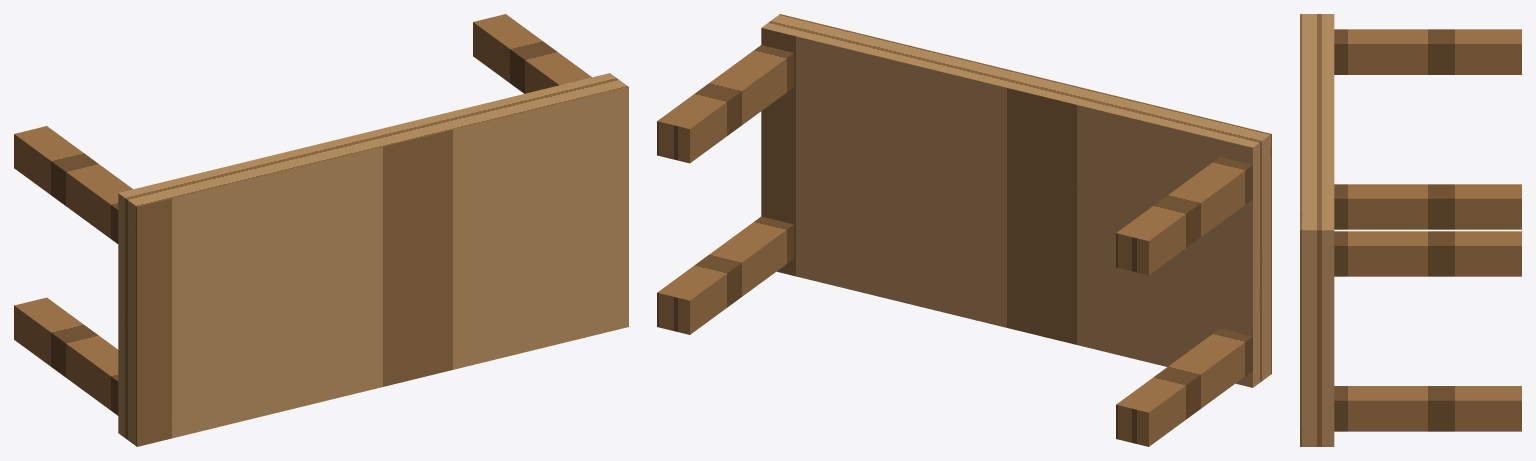
File: table.glb
3 renders of one model, left to right at view 1: azimuth 30°, elevation 25°; view 2: azimuth 150°, elevation 25°; view 3: azimuth 270°, elevation 25°, orthographic. The views are drawn at different scales.
Visible parts, largest first — view 1: table; view 2: table; view 3: table.
Part boxes in pixels (box(x1,y1,x2,y2)): table: box(14, 14, 628, 446); table: box(657, 14, 1271, 446); table: box(1300, 14, 1521, 446).
Bounding box in the file's own units: 1.88 × 0.875 × 0.8125.
1 material, 1 textured.
